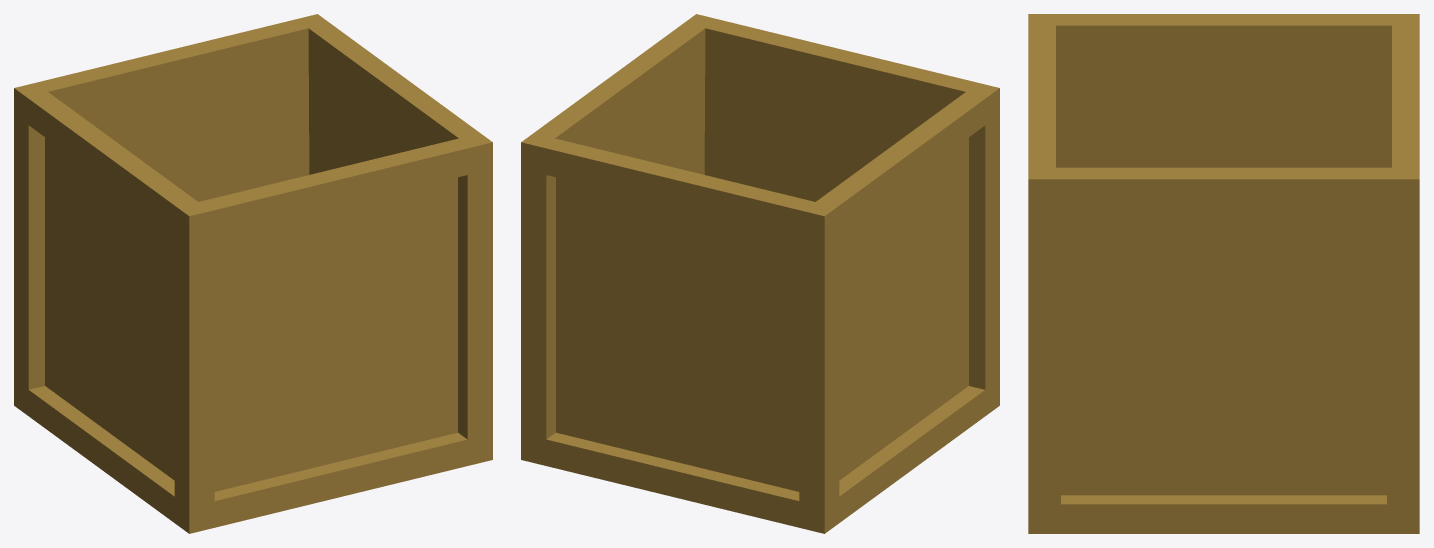
The model's file is KotakBarang2.fbx.
The picture shows the model from 3 angles, left to right: view 1: azimuth 30°, elevation 25°; view 2: azimuth 150°, elevation 25°; view 3: azimuth 270°, elevation 25°; orthographic projection. The views are drawn at different scales.
Parts seen in each view (by area): view 1: Cube.008; view 2: Cube.008; view 3: Cube.008.
Part boxes in pixels (x1,y1,x2,y2): Cube.008: (14, 14, 492, 533); Cube.008: (521, 14, 999, 533); Cube.008: (1028, 14, 1419, 533).
Size of the model in its own units: 200 by 200 by 200.
